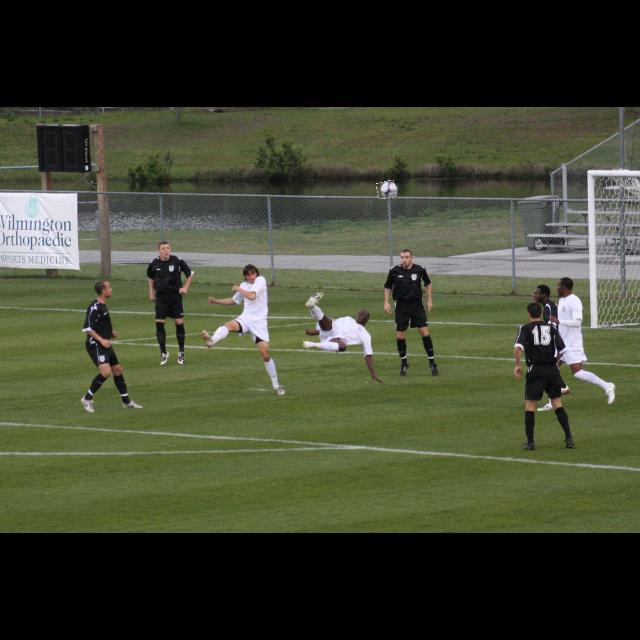Football: (377, 181, 397, 199)
